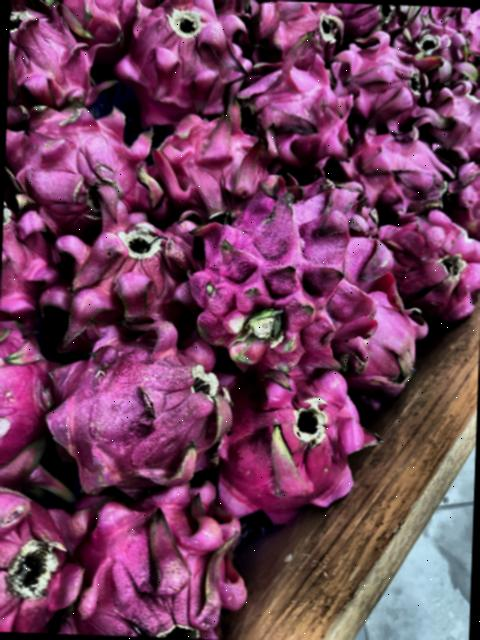buah-naga-matang: (192, 175, 384, 372), (41, 306, 236, 484), (66, 480, 253, 640), (214, 351, 374, 515), (48, 204, 194, 342), (8, 98, 153, 222), (124, 0, 248, 114), (144, 102, 263, 220), (0, 476, 81, 634), (376, 204, 480, 319), (235, 63, 352, 164), (0, 321, 57, 489), (344, 120, 453, 207), (7, 0, 91, 107), (352, 282, 420, 410), (0, 193, 68, 319), (341, 38, 432, 132), (251, 0, 339, 54), (430, 76, 480, 157), (54, 0, 133, 46), (401, 11, 462, 58), (445, 154, 480, 229), (338, 3, 389, 31)
